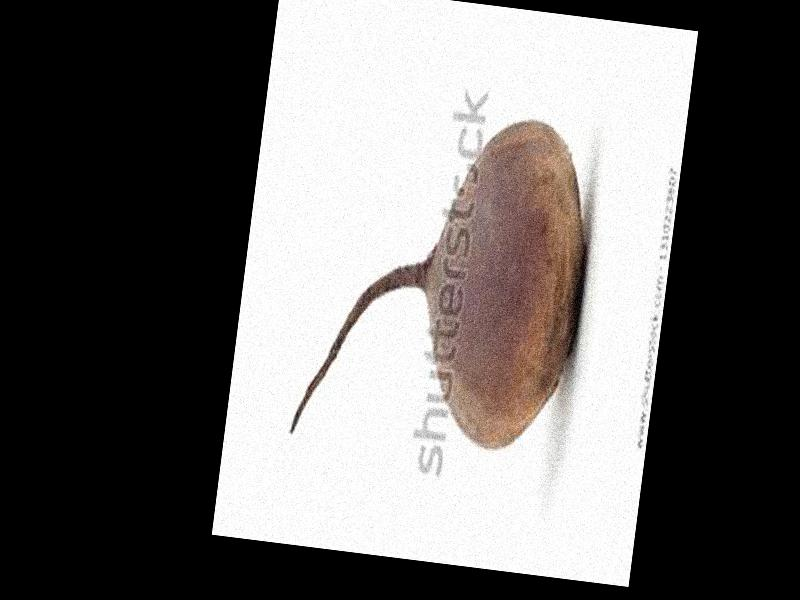Beet: (289, 91, 604, 466)
